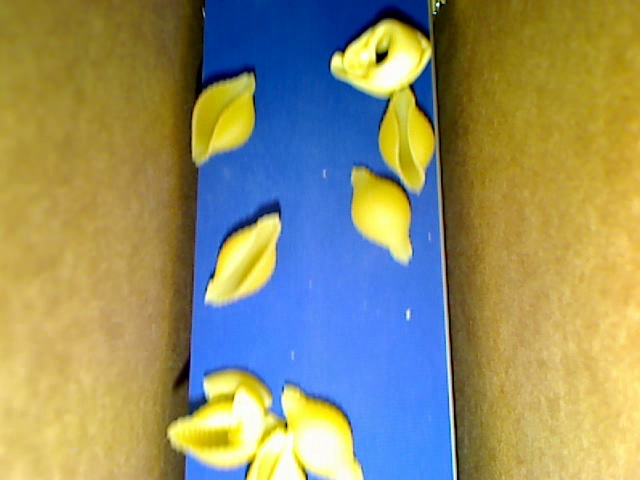elbow: (202, 367, 273, 409), (230, 385, 264, 453)
shell: (166, 394, 285, 472), (280, 381, 364, 479), (203, 210, 283, 309), (348, 163, 413, 266), (191, 71, 256, 167), (378, 86, 433, 195), (246, 426, 306, 479)
tortellini: (330, 19, 432, 98)
